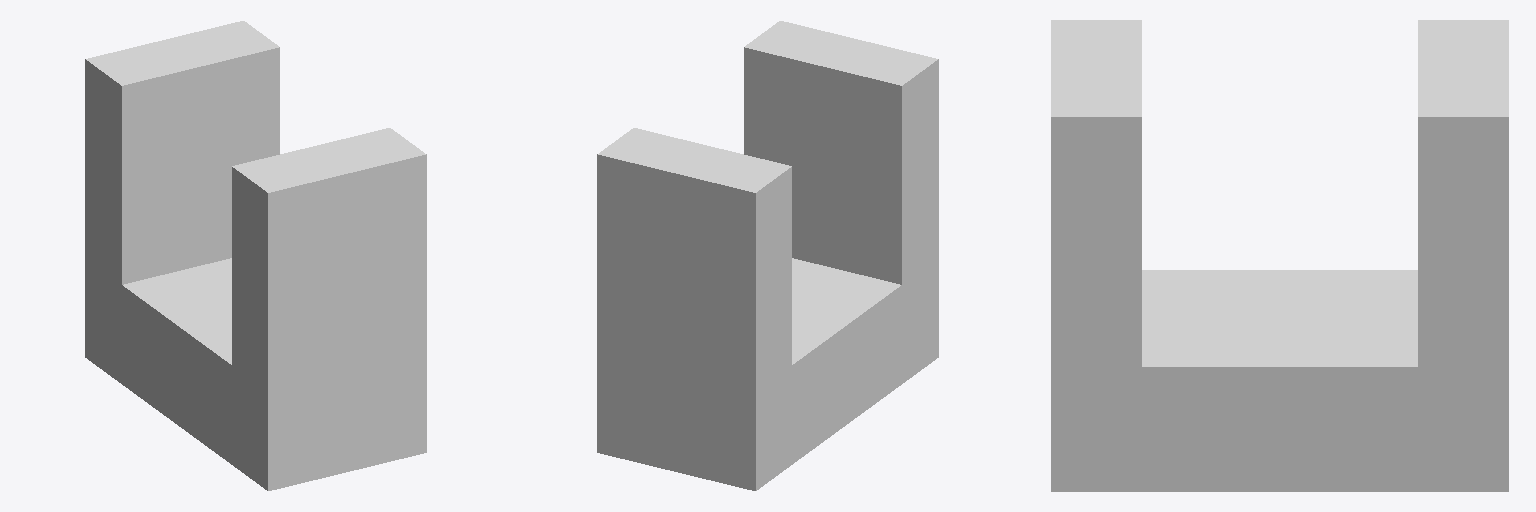
URDF robot description (square_bottom):
<?xml version="1.0"?>
<robot name="square_bottom">
    <link name="square_bottom">
        <visual>
            <origin xyz="0 1.1102230246251565404e-16 1.2050000000000000711" rpy="0 -0 0" />
            <geometry>
            <mesh filename="separated_wall_shapes/square_bottom.obj"/>
            </geometry>
            <material name="square_bottom_material">
            <color rgba="0.91764705882352937127 0.91764705882352937127 0.91764705882352937127 1.0"/>
            </material>
        </visual>
        <collision>
            <origin xyz="0 1.1102230246251565404e-16 1.2050000000000000711" rpy="0 -0 0" />
            <geometry>
            <mesh filename="separated_wall_shapes/square_bottom.obj"/>
            </geometry>
            
        </collision>
        <inertial>
            <origin xyz="0 0 0" rpy="0 0 0"/>
            <mass value="100" />
            <inertia ixx="0" ixy="0"  ixz="0" iyy="0" iyz="0" izz="0" />
        </inertial>
    </link>


</robot>

--- Facts derived from the render (not from the file) ---
3 views of the same robot in one strip: view 1: azimuth 30°, elevation 25°; view 2: azimuth 150°, elevation 25°; view 3: azimuth 270°, elevation 25° (orthographic).
Robot: square_bottom — 1 links, 0 joints (none); root link square_bottom; default pose: all joints at 0.
Visible links, largest first — view 1: square_bottom; view 2: square_bottom; view 3: square_bottom.
Link boxes in pixels (x1,y1,x2,y2): square_bottom: (85, 21, 426, 490); square_bottom: (597, 21, 938, 490); square_bottom: (1051, 20, 1508, 491).
Size in the robot's own frame: 0.25 by 0.5 by 0.45 metres.
Meshes: 1 distinct files referenced, 1 mesh visuals loaded (1 OBJ).